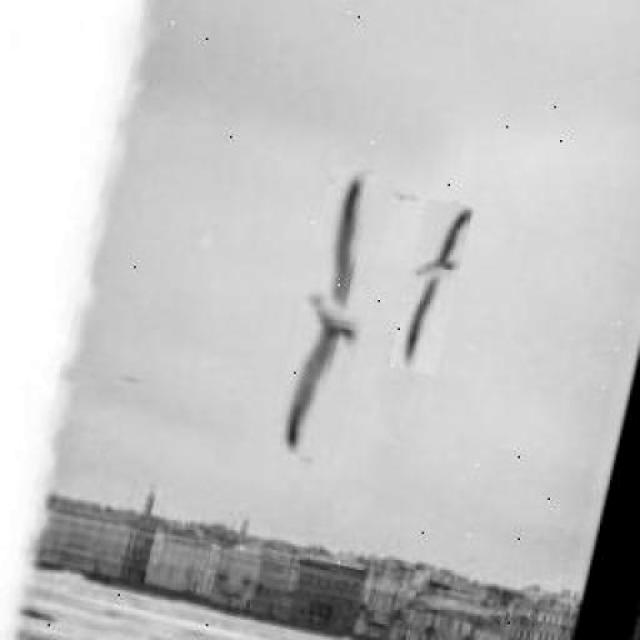airplane: (268, 165, 395, 461), (388, 198, 474, 375)
